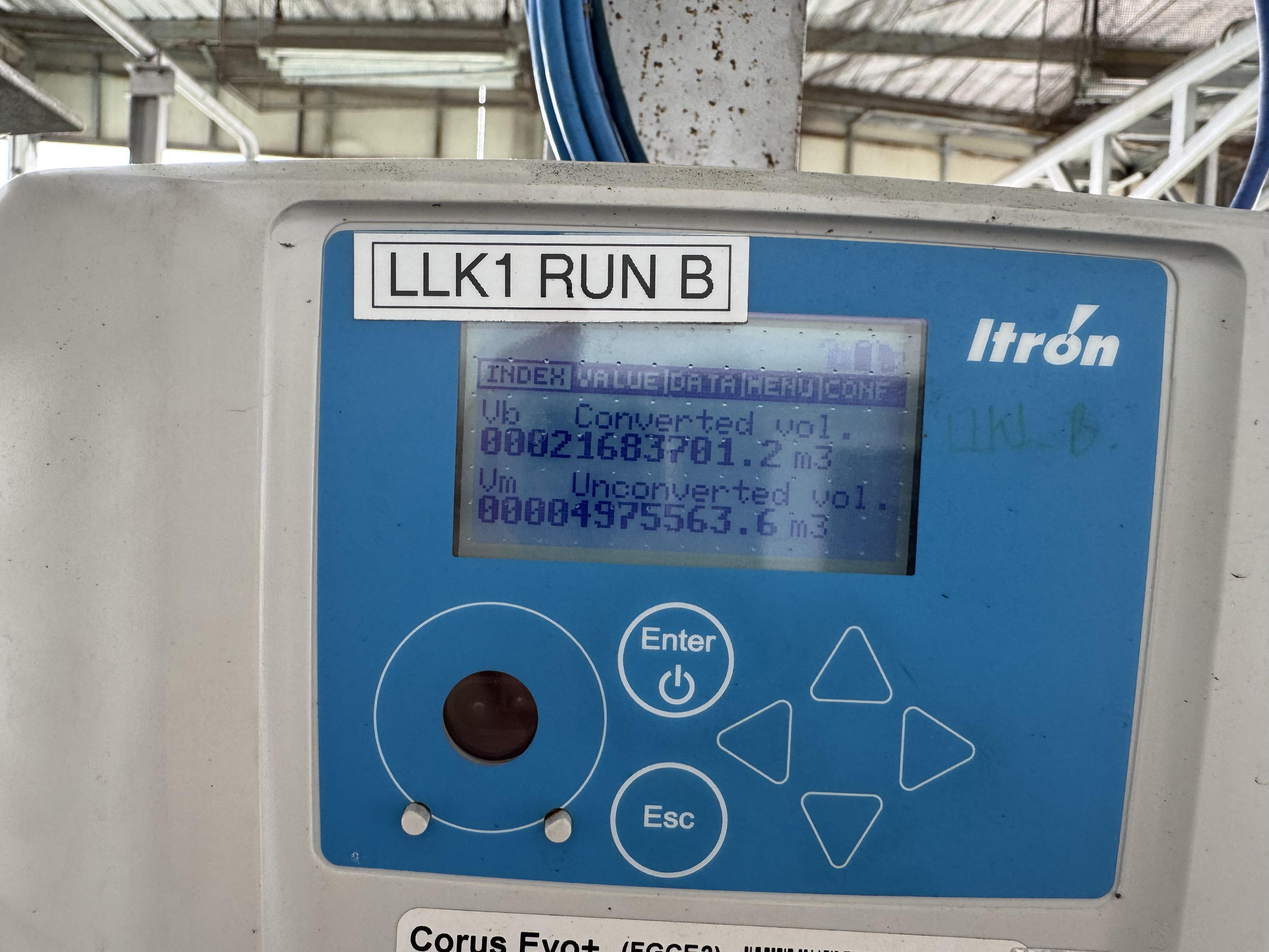digital_screen: (454, 304, 925, 576)
